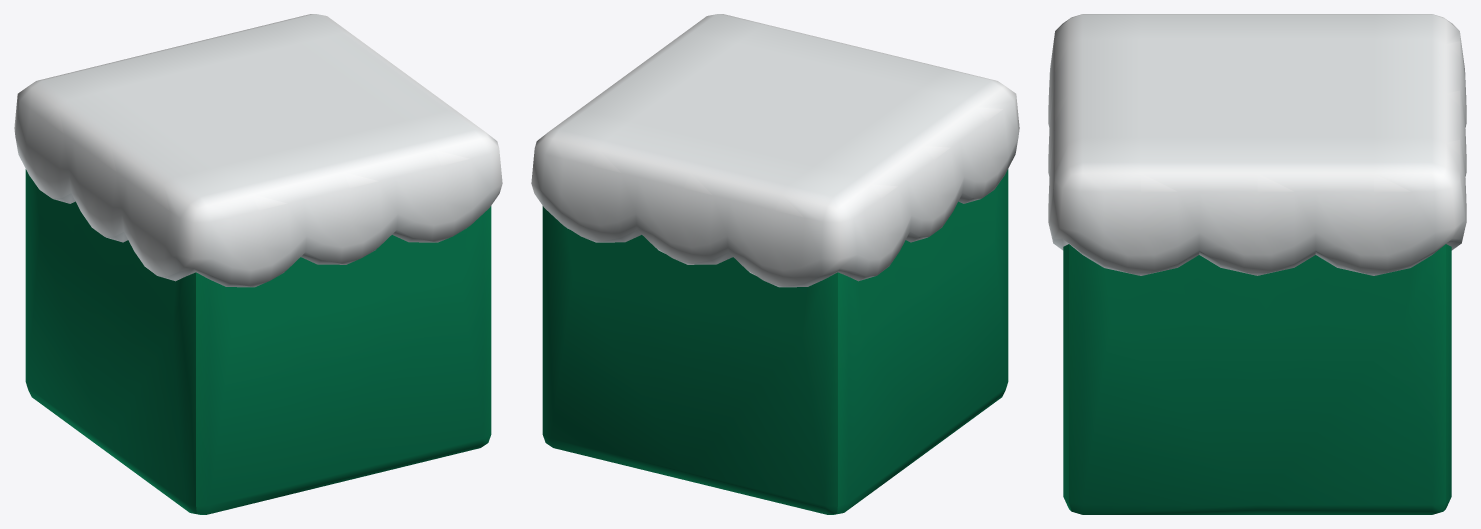
File: grass_with_snow.glb
3 renders of one model, left to right at view 1: azimuth 30°, elevation 25°; view 2: azimuth 150°, elevation 25°; view 3: azimuth 270°, elevation 25°, orthographic. The views are drawn at different scales.
Parts seen in each view (by area): view 1: grass_with_snow; view 2: grass_with_snow; view 3: grass_with_snow.
Part boxes in pixels (x1,y1,x2,y2): grass_with_snow: [14, 14, 502, 514]; grass_with_snow: [531, 14, 1019, 514]; grass_with_snow: [1048, 14, 1466, 514].
Size of the model in its own units: 2.16 by 2 by 2.16.
Materials: 1 (1 with a texture image).
